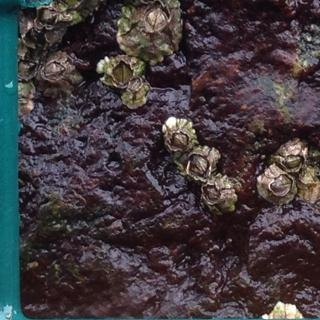Barnacle: (143, 1, 169, 31), (187, 151, 210, 178), (109, 60, 132, 85), (40, 60, 66, 82), (269, 173, 293, 195), (170, 129, 193, 150), (299, 164, 320, 184), (281, 154, 304, 171), (204, 183, 221, 201), (128, 76, 143, 92)
